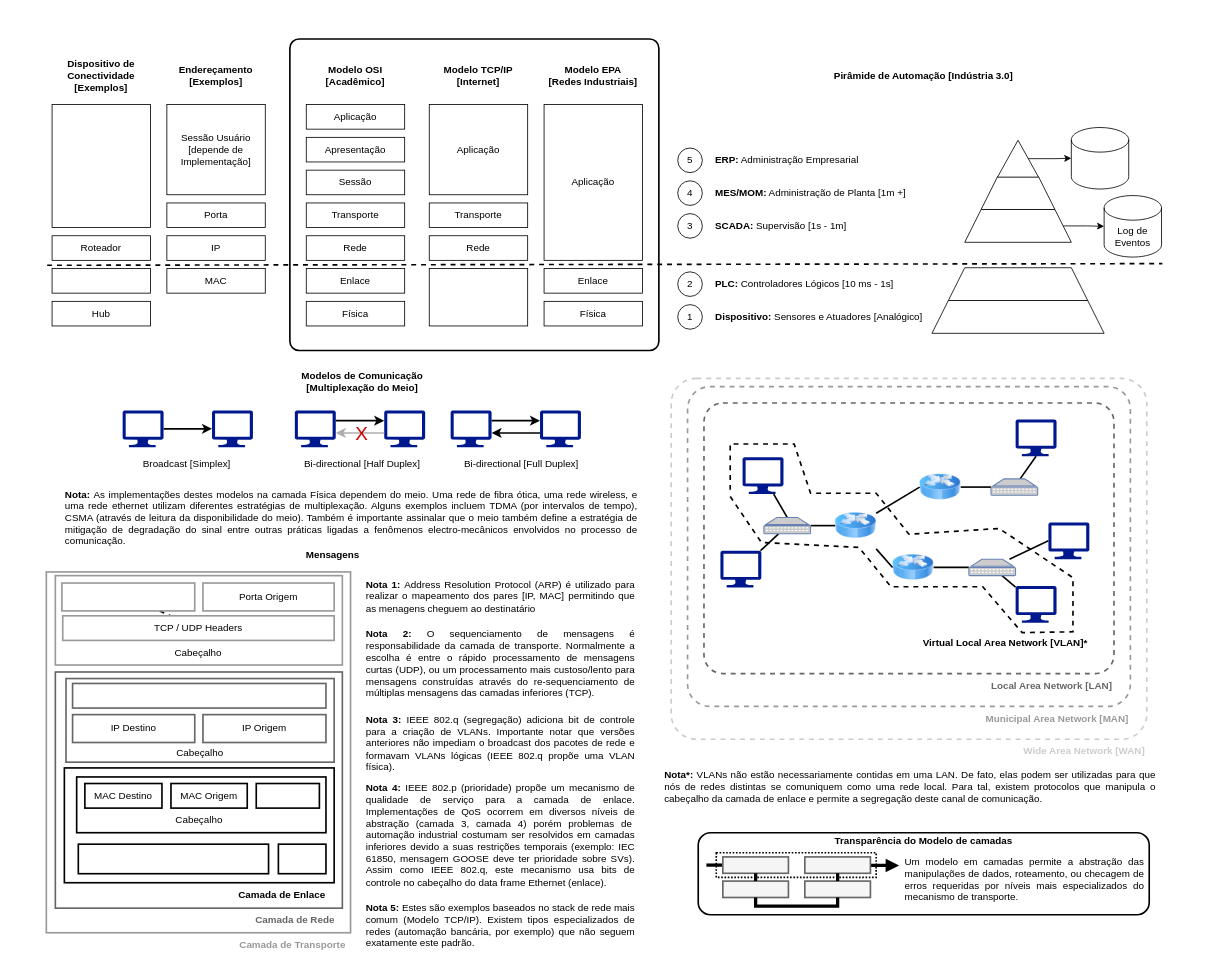
Image size: 1209x971. Some labels were removed from this diagram. Here are the shapes that lost their labels. From the top down, the box of each, then its label:
(51, 104, 150, 228): Aplicações de Rede: Firewalls, Gateways [Hardware]
(1071, 127, 1129, 189): Armazém de Dados
(51, 268, 150, 293): Switch
(428, 268, 528, 326): Interface de Rede
(61, 582, 195, 611): Porta Destino
(71, 682, 326, 708): IPv4 / IPv6 Headers
(255, 782, 320, 809): Ether Type
(77, 843, 269, 874): Corpo
(277, 843, 326, 874): CRC
